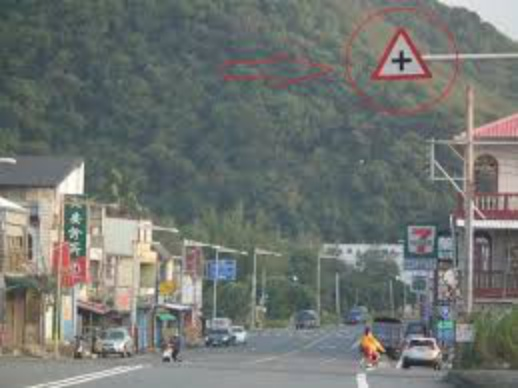Fork_road: (369, 25, 434, 81)
